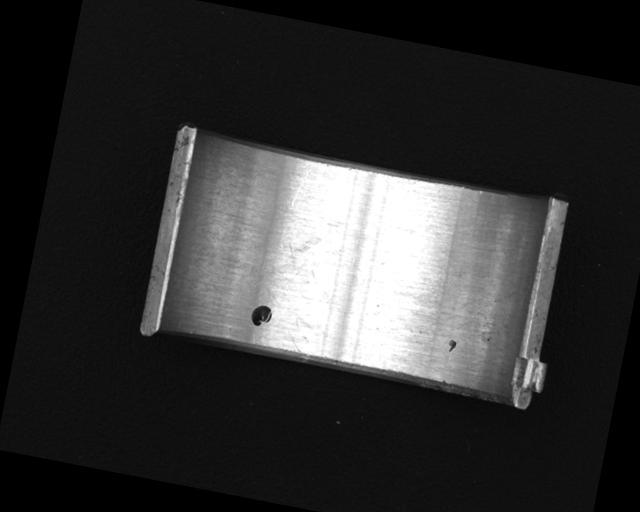blot: (264, 221, 324, 285), (249, 302, 274, 329)
bruise: (446, 336, 459, 353)
nick: (289, 163, 313, 210)
